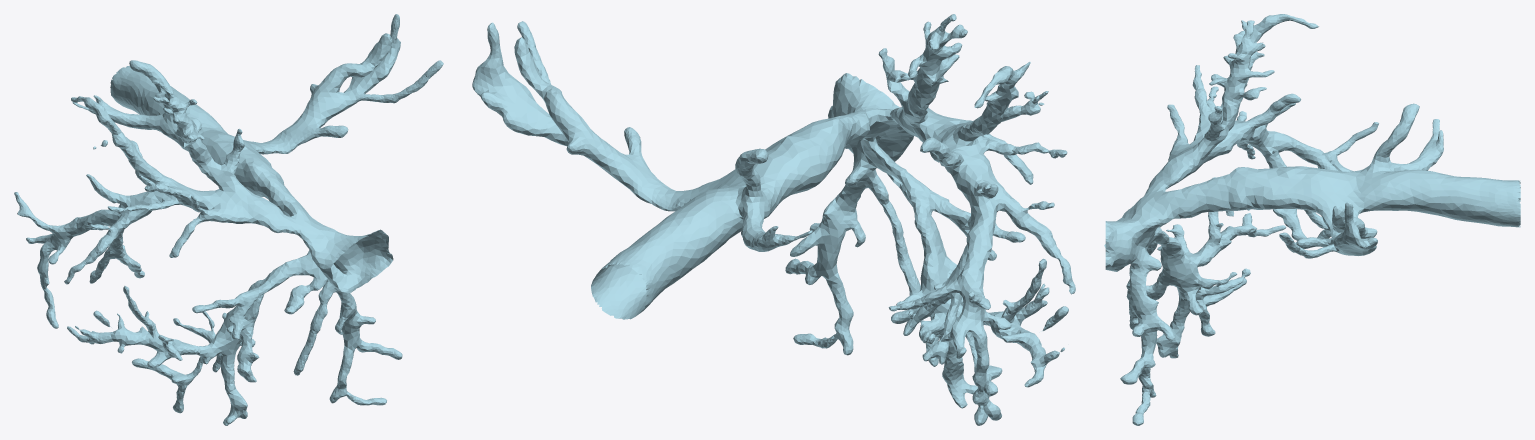
The model's file is venoussystem.obj.
The picture shows the model from 3 angles, left to right: view 1: azimuth 30°, elevation 25°; view 2: azimuth 150°, elevation 25°; view 3: azimuth 270°, elevation 25°; orthographic projection. The views are drawn at different scales.
Parts seen in each view (by area): view 1: grp1; view 2: grp1; view 3: grp1.
Part boxes in pixels (x1,y1,x2,y2): grp1: (14,14,443,425); grp1: (472,14,1075,425); grp1: (1104,14,1520,425).
Size of the model in its own units: 232 by 183 by 214.
